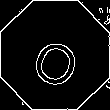O_NE: (25, 23, 85, 87)
